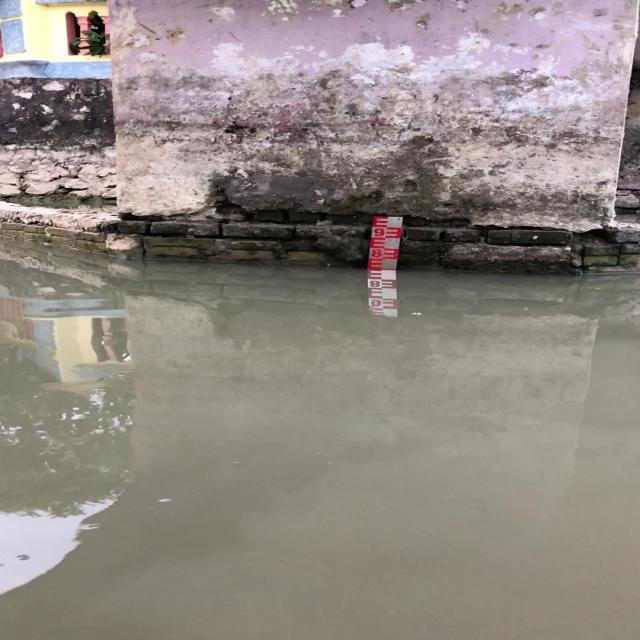ruler: (362, 210, 406, 273)
value: (368, 247, 385, 259), (371, 228, 387, 238)
